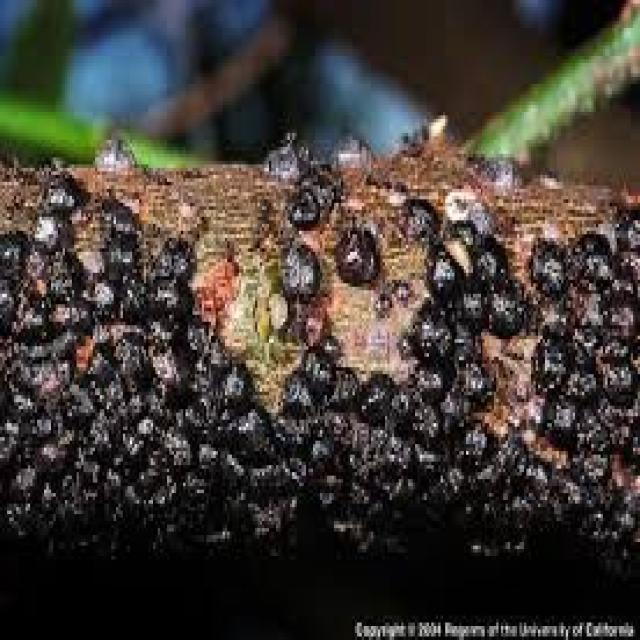BlackScale: (0, 168, 275, 551), (274, 343, 638, 588), (531, 205, 638, 461), (408, 195, 531, 415), (262, 133, 339, 224), (336, 224, 378, 292), (277, 238, 318, 306)
